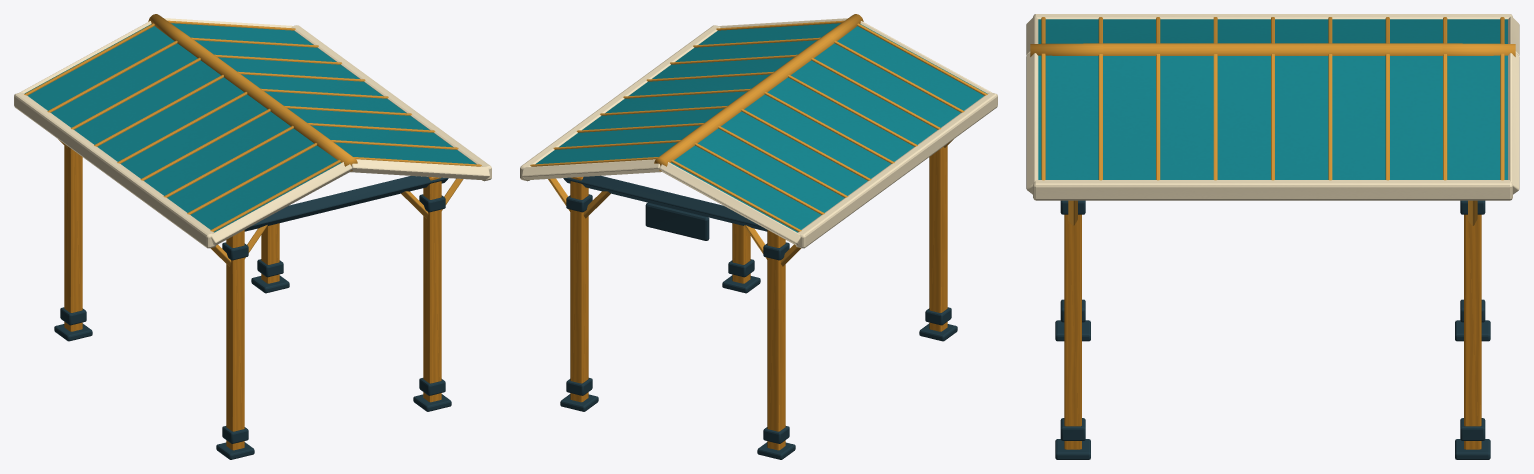
File: Building_Station_Canopy4m_001.glb
3 renders of one model, left to right at view 1: azimuth 30°, elevation 25°; view 2: azimuth 150°, elevation 25°; view 3: azimuth 270°, elevation 25°, orthographic. The views are drawn at different scales.
Visible parts, largest first — view 1: Canopy4m_Body; view 2: Canopy4m_Body; view 3: Canopy4m_Body.
Part boxes in pixels (left/top/right/bottom): Canopy4m_Body: left=14, top=14, right=491, bottom=459; Canopy4m_Body: left=520, top=14, right=997, bottom=459; Canopy4m_Body: left=1026, top=14, right=1519, bottom=459.
Size of the model in its own units: 3.41 by 3.24 by 4.15.
Materials: 1 (1 with a texture image).
